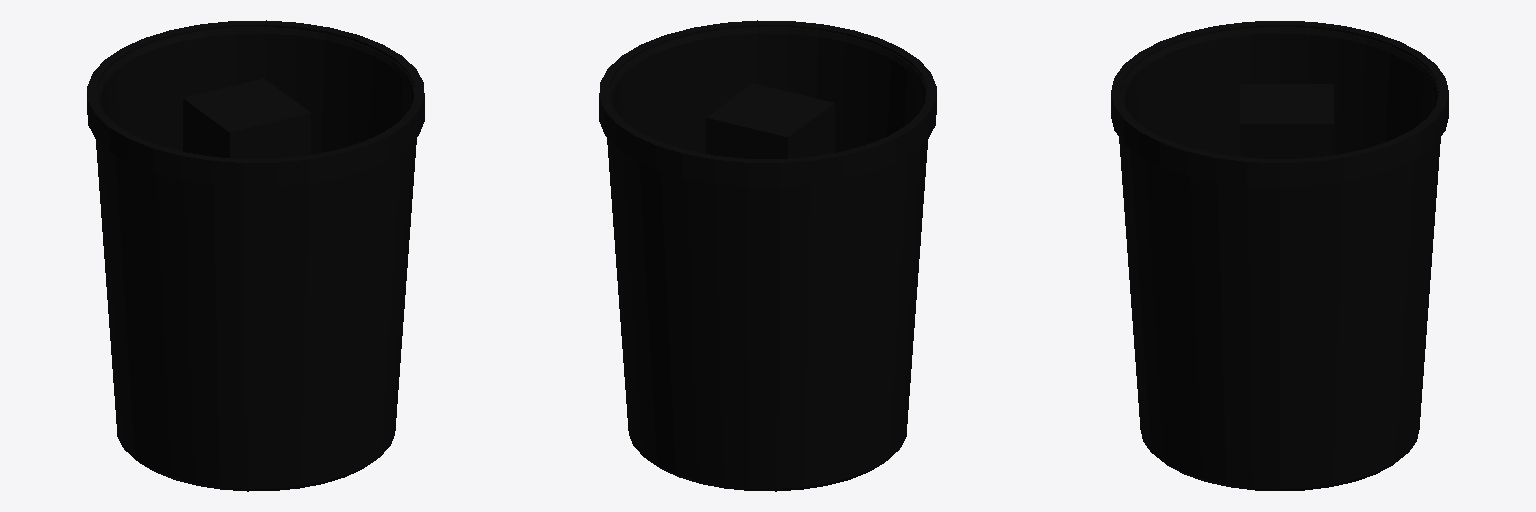
URDF robot description (nova_environment_object_0322):
<?xml version="1.0" encoding="utf-8"?>
<!-- Nova movable environment body for the bundled PyBullet launcher. SI metres/kg/radians. Loaded at its body origin; hinge/slider bodies use a fixed world_anchor base with one passive joint. Inertia is about COM. -->
<robot name="nova_environment_object_0322">
  <link name="body">
    <inertial>
      <origin xyz="0 0 0.11" rpy="0 0 0" />
      <mass value="0.35" />
      <inertia ixx="0.00334541667" iyy="0.00334541667" izz="0.004235" ixy="0" ixz="0" iyz="0" />
    </inertial>
    <visual>
      <origin xyz="0 0 0" rpy="0 0 0" />
      <geometry>
        <mesh filename="object_0322.obj" />
      </geometry>
      <material name="surface">
        <color rgba="0.08 0.08 0.08 1" />
      </material>
    </visual>
    <collision>
      <origin xyz="0 0 0" rpy="0 0 0" />
      <geometry>
        <mesh filename="object_0322_collision_00.obj" />
      </geometry>
    </collision>
    <collision>
      <origin xyz="0 0 0" rpy="0 0 0" />
      <geometry>
        <mesh filename="object_0322_collision_01.obj" />
      </geometry>
    </collision>
    <collision>
      <origin xyz="0 0 0" rpy="0 0 0" />
      <geometry>
        <mesh filename="object_0322_collision_02.obj" />
      </geometry>
    </collision>
    <collision>
      <origin xyz="0 0 0" rpy="0 0 0" />
      <geometry>
        <mesh filename="object_0322_collision_03.obj" />
      </geometry>
    </collision>
    <collision>
      <origin xyz="0 0 0" rpy="0 0 0" />
      <geometry>
        <mesh filename="object_0322_collision_04.obj" />
      </geometry>
    </collision>
    <collision>
      <origin xyz="0 0 0" rpy="0 0 0" />
      <geometry>
        <mesh filename="object_0322_collision_05.obj" />
      </geometry>
    </collision>
    <collision>
      <origin xyz="0 0 0" rpy="0 0 0" />
      <geometry>
        <mesh filename="object_0322_collision_06.obj" />
      </geometry>
    </collision>
    <collision>
      <origin xyz="0 0 0" rpy="0 0 0" />
      <geometry>
        <mesh filename="object_0322_collision_07.obj" />
      </geometry>
    </collision>
    <collision>
      <origin xyz="0 0 0" rpy="0 0 0" />
      <geometry>
        <mesh filename="object_0322_collision_08.obj" />
      </geometry>
    </collision>
  </link>
</robot>

--- Render facts (derived) ---
Views: 3 orthographic renders of the robot side by side, from view 1: azimuth 30°, elevation 25°; view 2: azimuth 150°, elevation 25°; view 3: azimuth 270°, elevation 25°.
Robot: nova_environment_object_0322 — 1 links, 0 joints (none); root link body; default pose: all joints at 0.
Visible links, largest first — view 1: body; view 2: body; view 3: body.
Boxes of the visible links, <box> form: body: <box>87,20,424,491</box>; body: <box>599,20,936,491</box>; body: <box>1111,21,1448,490</box>.
Bounding box of the posed robot: 0.252 × 0.252 × 0.282 m (x, y, z).
1 mesh visuals loaded from 1 distinct referenced files (1 OBJ).
